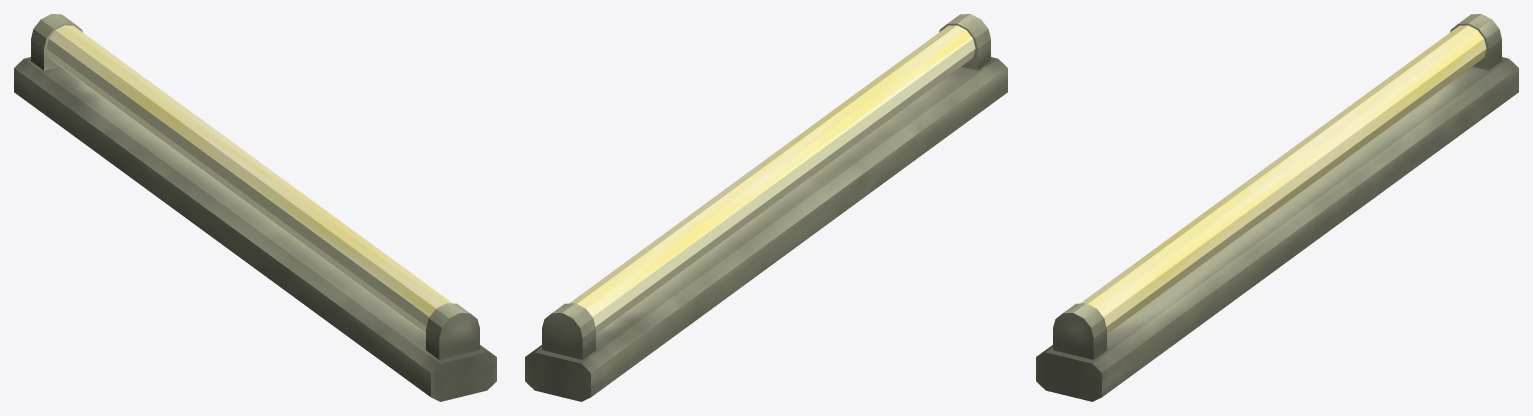
The model's file is flu_light.fbx.
The picture shows the model from 3 angles, left to right: view 1: azimuth 30°, elevation 25°; view 2: azimuth 150°, elevation 25°; view 3: azimuth 330°, elevation 25°; orthographic projection.
Visible parts, largest first — view 1: flu_light; view 2: flu_light; view 3: flu_light.
Part boxes in pixels (box(x1,y1,x2,y2)): flu_light: box(14, 14, 496, 401); flu_light: box(525, 14, 1007, 401); flu_light: box(1036, 14, 1518, 401).
Bounding box in the file's own units: 0.1097 × 0.1275 × 1.2.
Materials: 2 (2 with a texture image).
